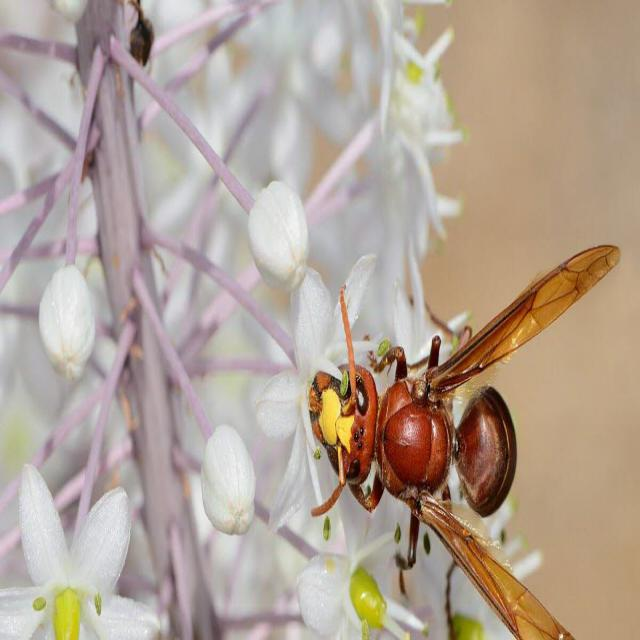Vespa Orientalis: (294, 221, 640, 639)
